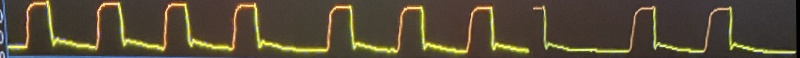normal_pressure: (4, 0, 800, 58)
